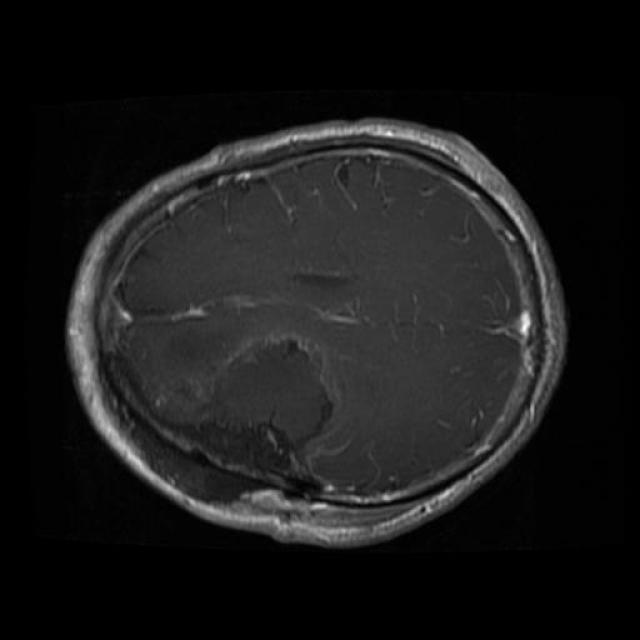Glioma: (111, 341, 335, 509)
